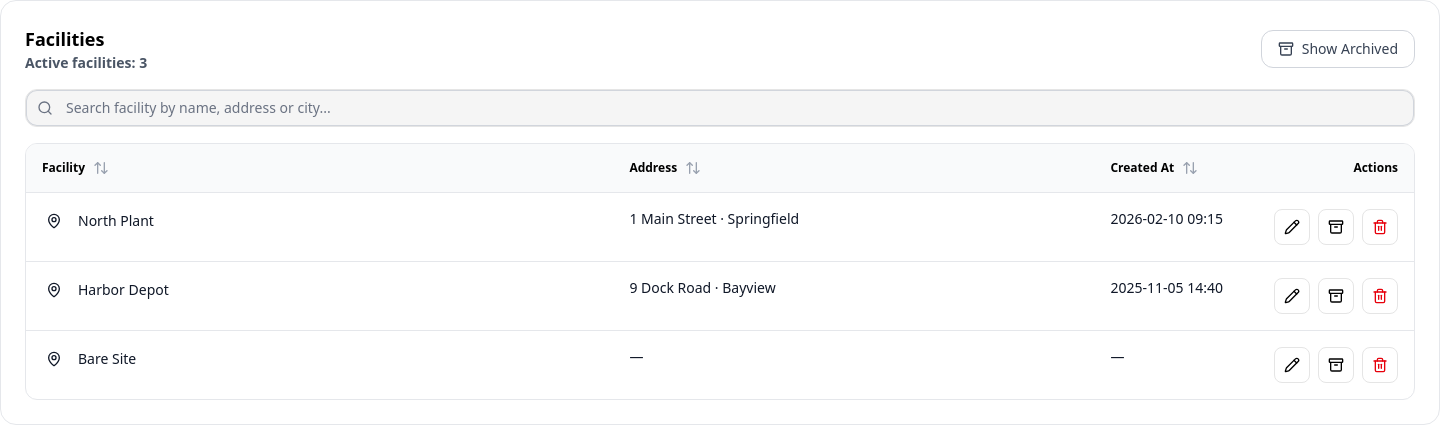
FacilitiesContent › search › shows the empty message when nothing matches the query
Type "zzz-nope" into the search field named "Search facilities" at x=720, y=108, box top-left (25, 89), bottom-right (1415, 127)
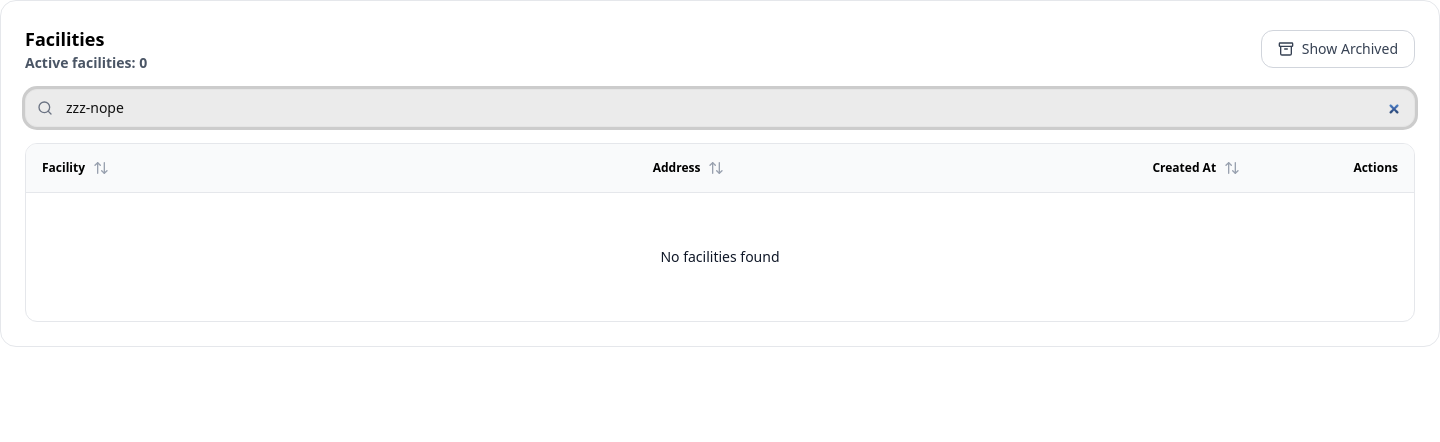
Now the text "No facilities found" is shown, box top-left (660, 246), bottom-right (780, 266)
Now the text "Active facilities: 0" is shown, box top-left (25, 53), bottom-right (147, 73)
